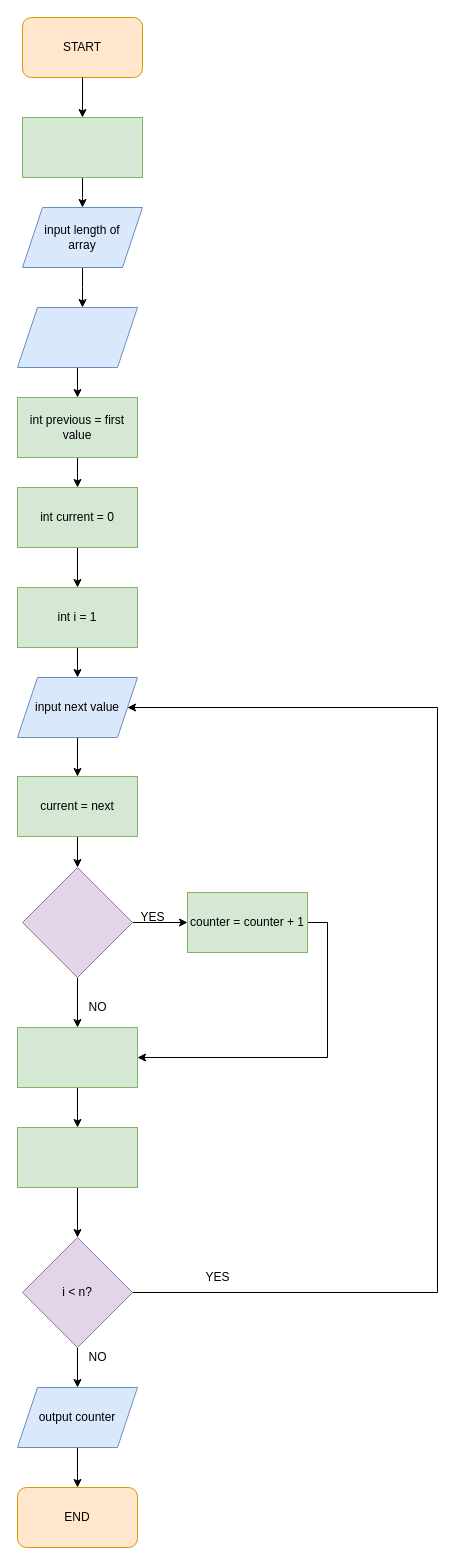
The diagram is 463 pixels wide and 1565 high, and some of its shapes have lost their labels. Here are the shapes that lost their labels. From the top down, the centre of each, then its label:
At pixel 82 147: "int counter = 0".
At pixel 77 337: "input first value".
At pixel 77 922: "current > previous?".
At pixel 77 1057: "previous = current".
At pixel 77 1157: "i = i + 1".
